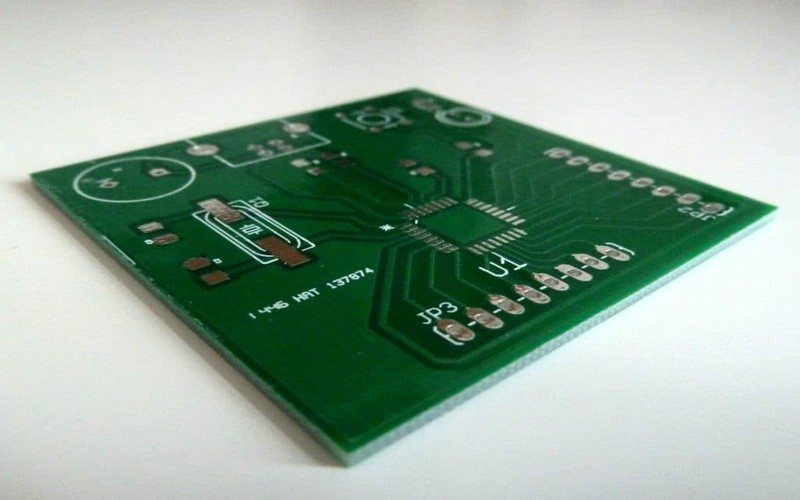Cirtuit-Board: (25, 80, 800, 460)
